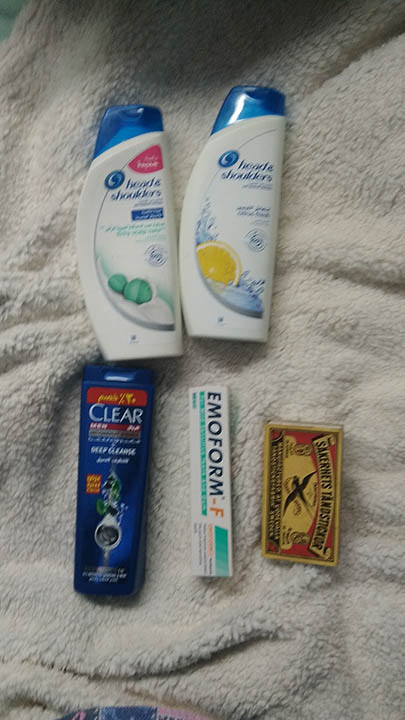Shampoo-Clear 4.7$: (68, 356, 156, 605)
Toothpaste-F 1.5$: (184, 382, 240, 581)
match-sticks .90$: (259, 410, 341, 581)
shampoo-Lemon 3.5$: (187, 87, 300, 344)
shampoo-green 4.5$: (74, 104, 190, 365)
